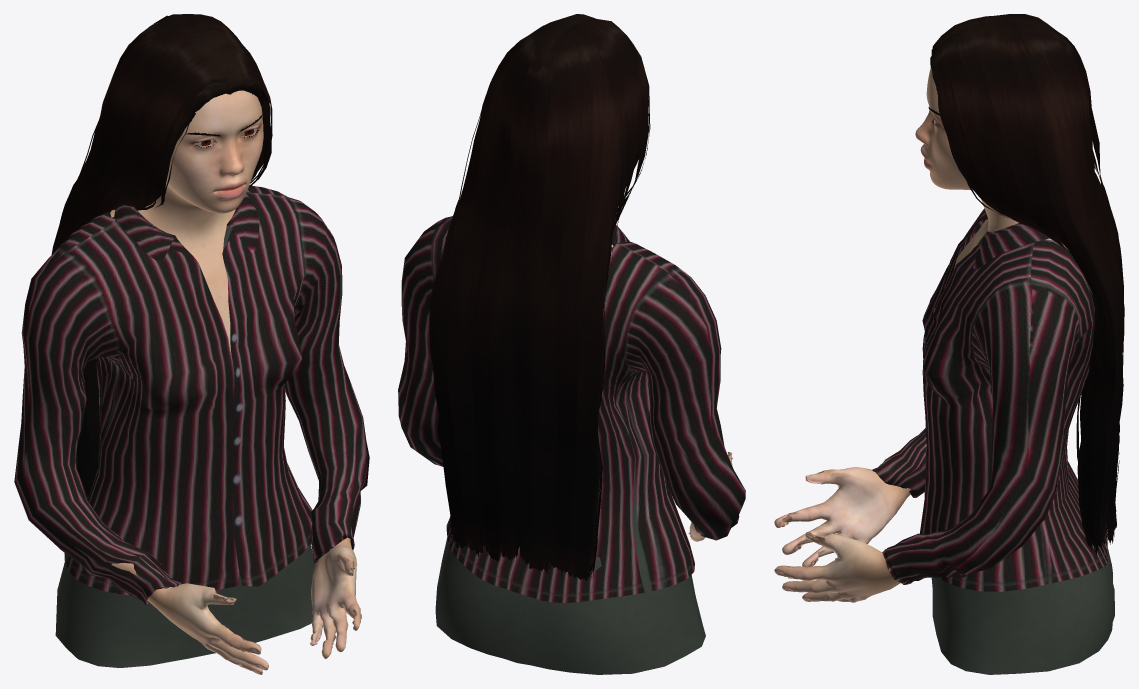
The model's file is f_young_as.glb.
3 views of the same model, side by side, from view 1: azimuth 30°, elevation 25°; view 2: azimuth 150°, elevation 25°; view 3: azimuth 270°, elevation 25° (orthographic).
Visible parts, largest first — view 1: Human.female_elegantsuit01, Human.long01, Human; view 2: Human.long01, Human.female_elegantsuit01; view 3: Human.female_elegantsuit01, Human.long01, Human.
Boxes of the visible parts, box(x1,y1,x2,y2) form: Human.female_elegantsuit01: box(14, 185, 369, 667); Human.long01: box(51, 14, 272, 497); Human: box(110, 90, 361, 674); Human.long01: box(429, 14, 650, 580); Human.female_elegantsuit01: box(398, 216, 745, 674); Human.female_elegantsuit01: box(872, 208, 1114, 674); Human.long01: box(930, 14, 1124, 555); Human: box(774, 67, 1051, 602).
Bounding box in the file's own units: 0.4151 × 0.7149 × 0.3813.
9 materials, 9 textured.
